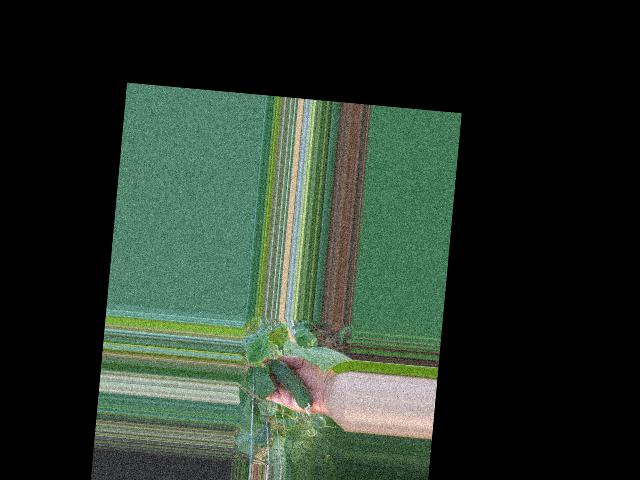cucumber: (264, 359, 316, 416)
